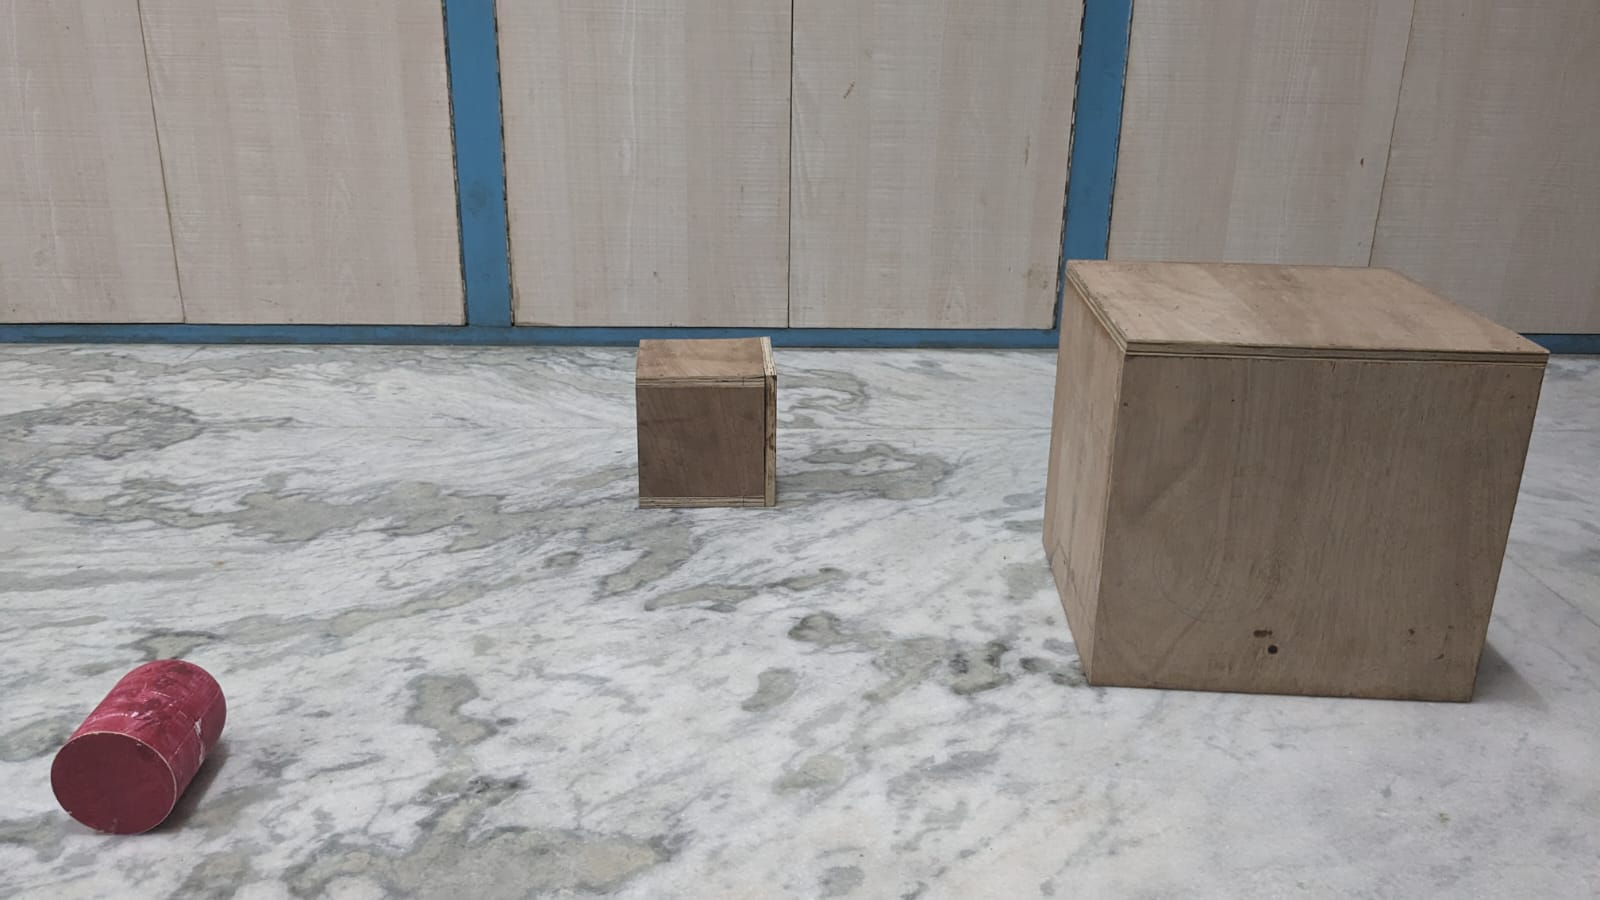150mm obstacle: (621, 311, 810, 523)
300mm obstacle: (1027, 230, 1567, 738)
testtube: (25, 630, 257, 848)
